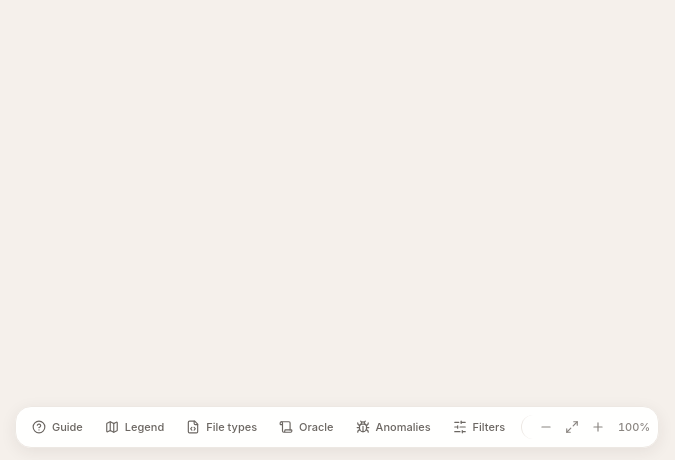
Test: PolisBottomBar › Filters panel lists every sin rule id, including the P4 roster
This screenshot has width=675, height=460.
Click the button "Filters".
click(479, 427)  # box [443,412,515,441]
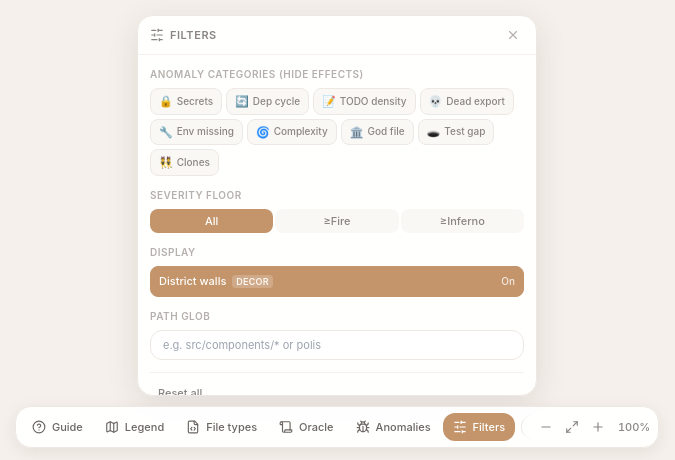
expect the text "Secrets" is shown: met, box [177,94,213,109]
expect the text "Dep cycle" is shown: met, box [253,94,300,109]
expect the text "TODO density" is shown: met, box [340,94,407,109]
